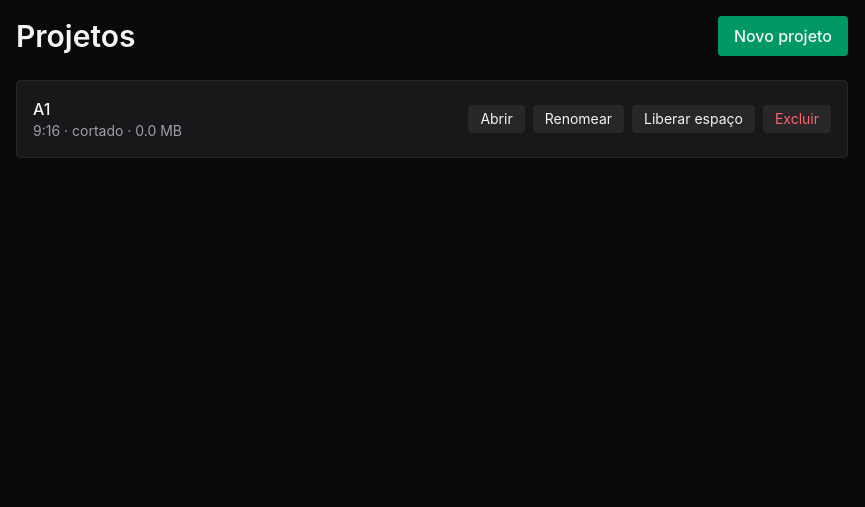
Test: RecordedWizard › abrir um projeto entra no wizard
The image size is (865, 507).
Click the button with aria-label "abrir A1".
click(497, 119)  # box [468, 105, 525, 133]
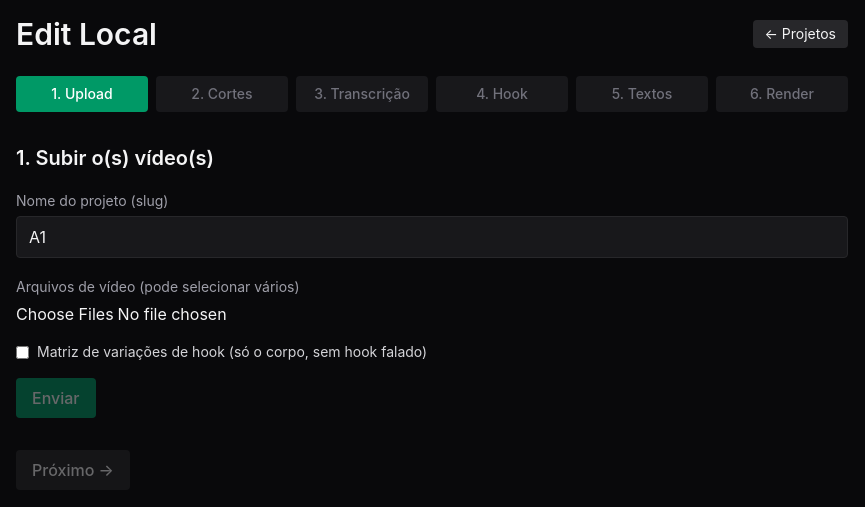
Check: the heading "Edit Local" is shown, box [16, 16, 157, 52]
